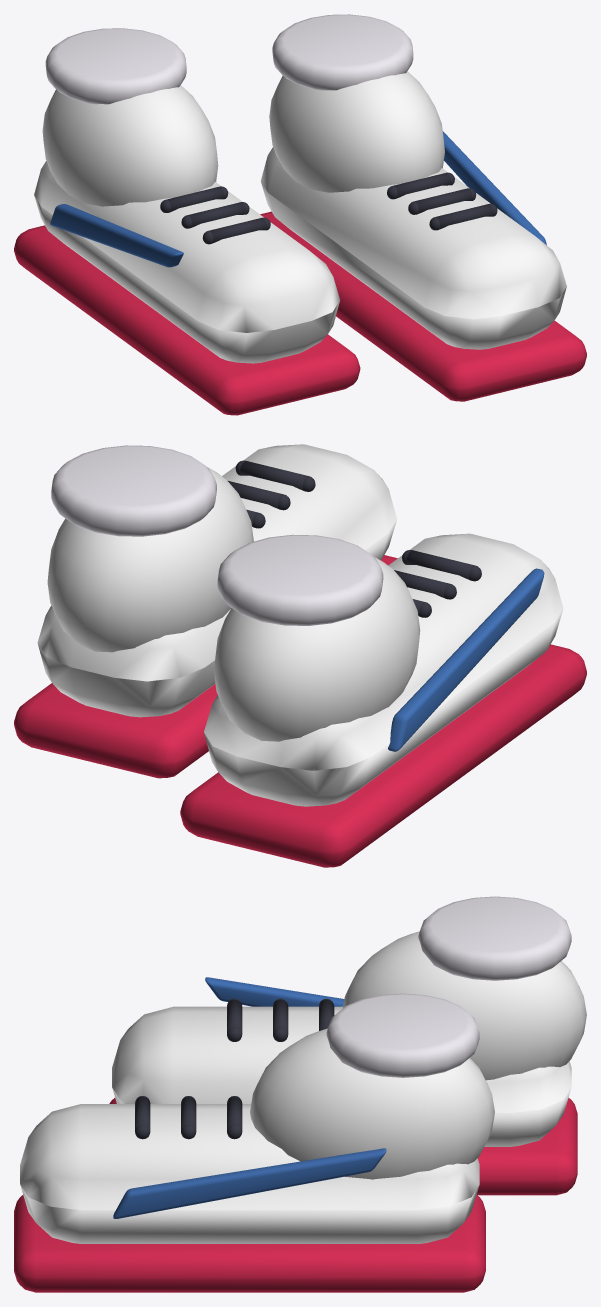
Rendered from item_sneakers.fbx.
3 views of the same model, one above another, from view 1: azimuth 30°, elevation 25°; view 2: azimuth 150°, elevation 25°; view 3: azimuth 270°, elevation 25° (orthographic). The views are drawn at different scales.
Parts seen in each view (by area): view 1: item_sneakers; view 2: item_sneakers; view 3: item_sneakers.
Boxes of the visible parts, box(x1,y1,x2,y2) form: item_sneakers: box(14, 14, 586, 415); item_sneakers: box(14, 444, 586, 867); item_sneakers: box(14, 896, 586, 1292).
Bounding box in the file's own units: 0.274 × 0.173 × 0.374.
